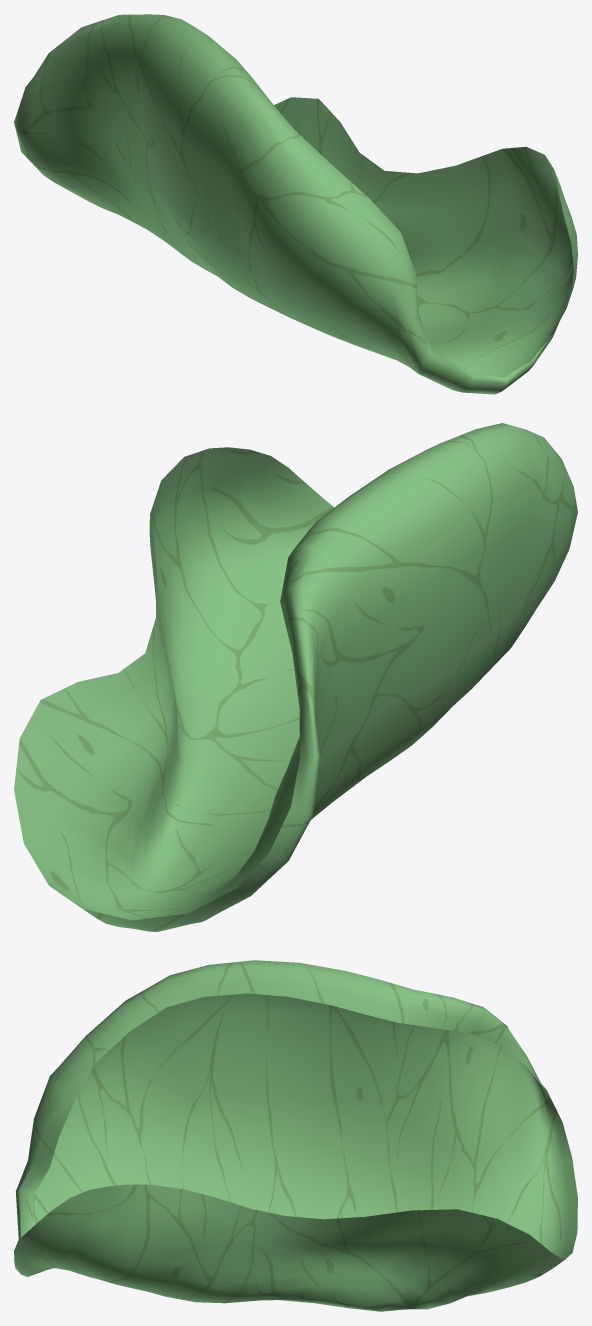
The model's file is Mesh_Home_RF_Leaf_07_SM.fbx.
3 renders of one model, top to bottom at view 1: azimuth 30°, elevation 25°; view 2: azimuth 150°, elevation 25°; view 3: azimuth 270°, elevation 25°, orthographic. The views are drawn at different scales.
Visible parts, largest first — view 1: Mesh_Home_RF_Leaf_07; view 2: Mesh_Home_RF_Leaf_07; view 3: Mesh_Home_RF_Leaf_07.
Part boxes in pixels (box(x1,y1,x2,y2)): Mesh_Home_RF_Leaf_07: box(14, 14, 577, 394); Mesh_Home_RF_Leaf_07: box(14, 423, 577, 931); Mesh_Home_RF_Leaf_07: box(14, 960, 577, 1311).
Bounding box in the file's own units: 1268 × 1175 × 2106.
Materials: 1 (1 with a texture image).
